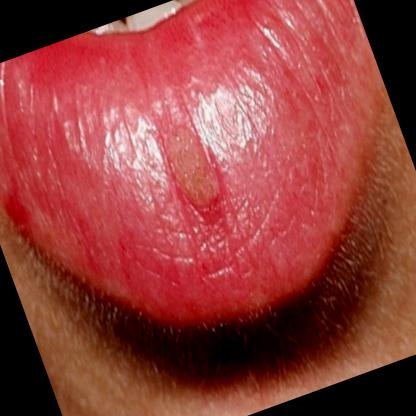Warts: (140, 95, 244, 231)
